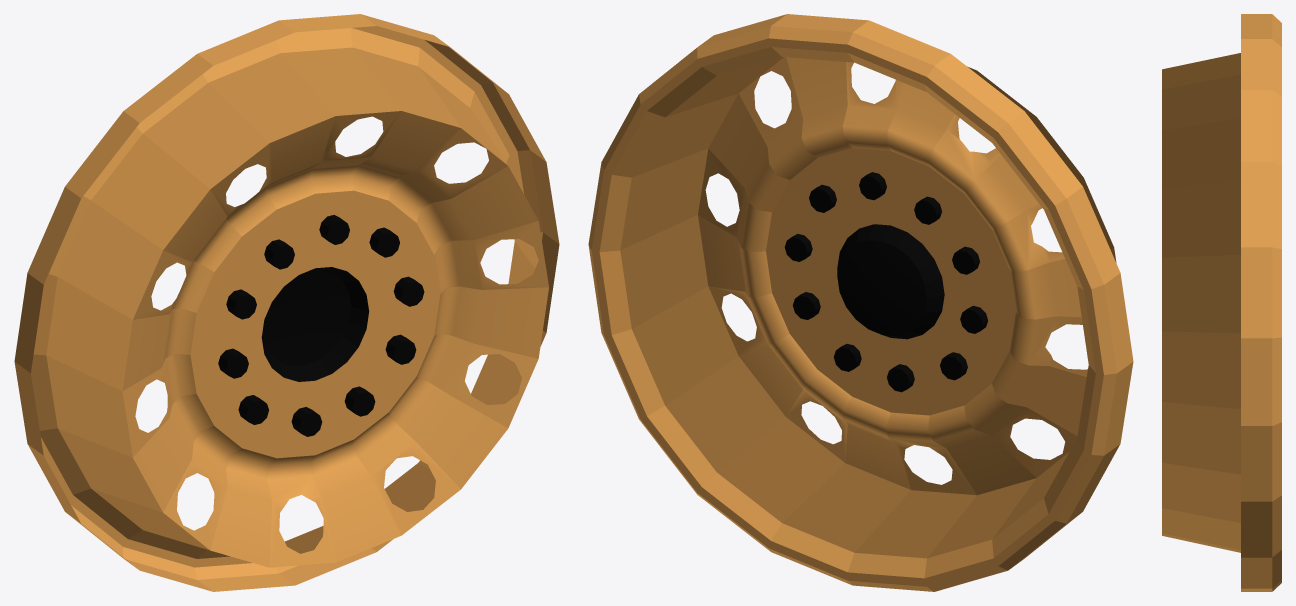
Rendered from RIng3_rear.fbx.
3 renders of one model, left to right at view 1: azimuth 30°, elevation 25°; view 2: azimuth 150°, elevation 25°; view 3: azimuth 270°, elevation 25°, orthographic. The views are drawn at different scales.
Visible parts, largest first — view 1: pCylinder21; view 2: pCylinder21; view 3: pCylinder21.
Part boxes in pixels (left/top/right/bottom): pCylinder21: left=14, top=14, right=559, bottom=591; pCylinder21: left=588, top=14, right=1133, bottom=591; pCylinder21: left=1162, top=14, right=1281, bottom=591.
Bounding box in the file's own units: 0.0291 × 0.0291 × 0.00599.
